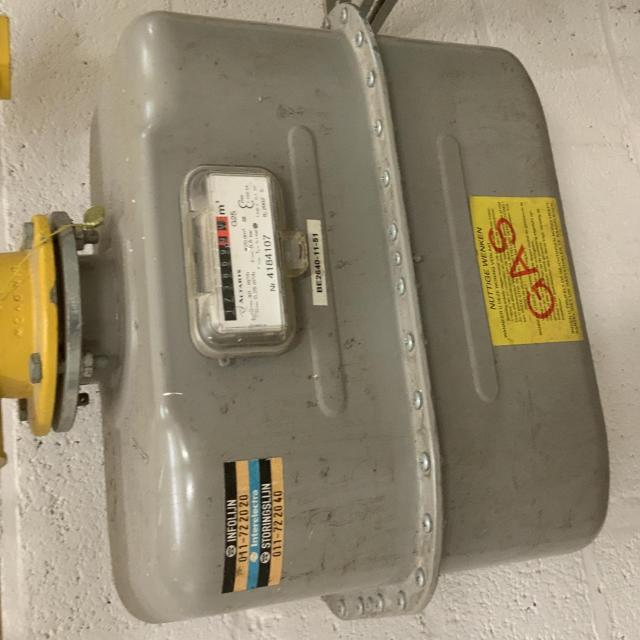gaz_meter: (206, 172, 291, 337)
indication: (213, 215, 237, 324)
